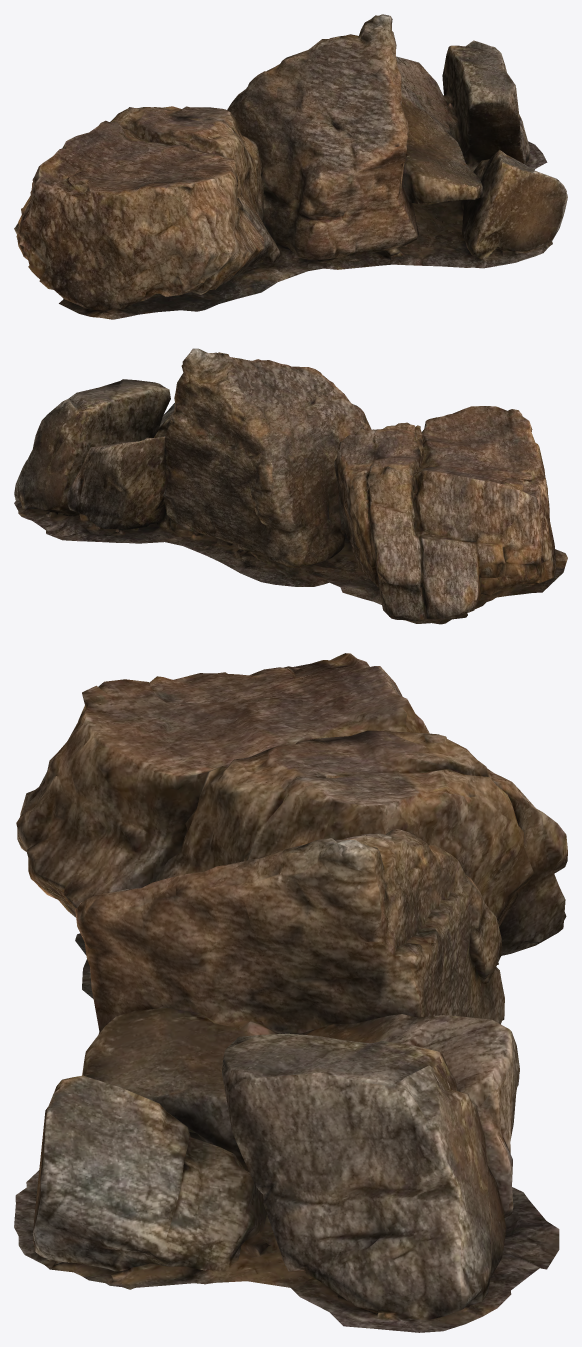
File: namaqualand_boulder_02.glb
The picture shows the model from 3 angles, top to bottom: view 1: azimuth 30°, elevation 25°; view 2: azimuth 150°, elevation 25°; view 3: azimuth 270°, elevation 25°; orthographic projection. The views are drawn at different scales.
Visible parts, largest first — view 1: boulder_02; view 2: boulder_02; view 3: boulder_02.
Part boxes in pixels (bbox=[...]): boulder_02: bbox=[14, 14, 567, 319]; boulder_02: bbox=[14, 348, 567, 624]; boulder_02: bbox=[14, 653, 567, 1332].
Bounding box in the file's own units: 2.53 × 0.8804 × 1.23.
1 material, 1 textured.
